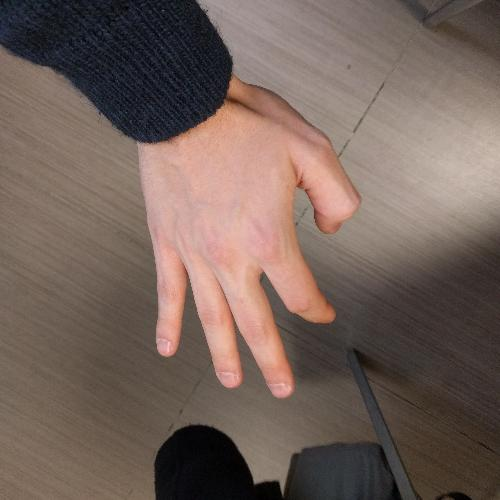paper: (130, 67, 368, 408)
